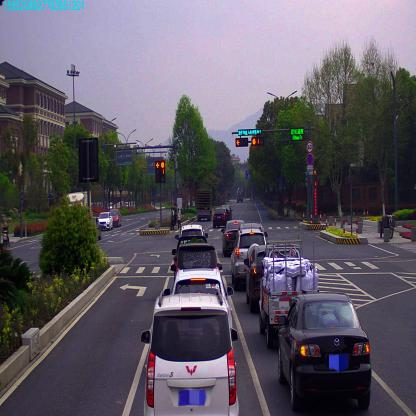traffic-light: (238, 129, 262, 136), (236, 136, 248, 146), (252, 136, 263, 146)
